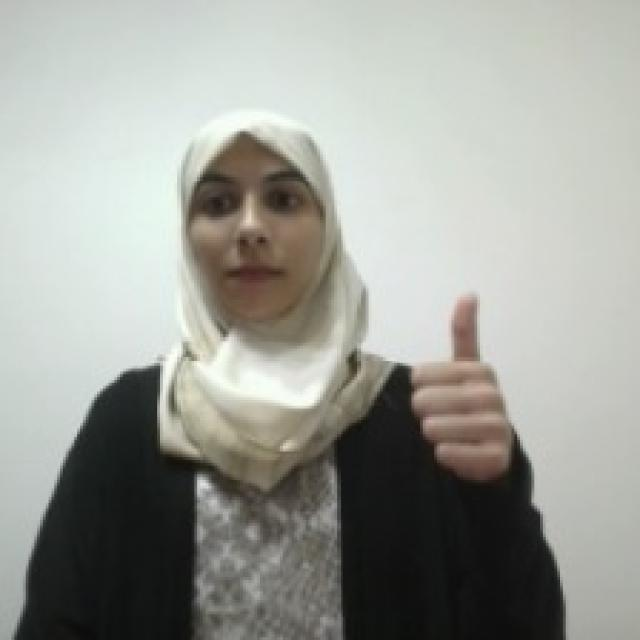fine: (404, 283, 518, 486)
